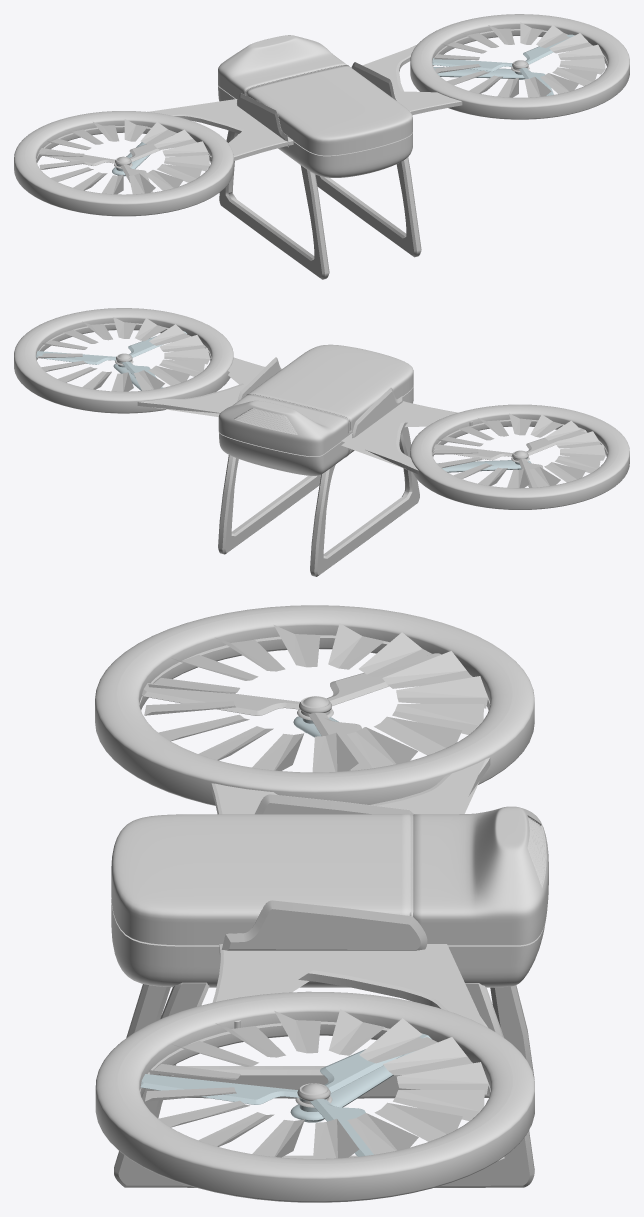
File: omfg1.obj
The picture shows the model from 3 angles, top to bottom: view 1: azimuth 30°, elevation 25°; view 2: azimuth 150°, elevation 25°; view 3: azimuth 270°, elevation 25°; orthographic projection. The views are drawn at different scales.
Visible parts, largest first — view 1: Corpo, Helice, Helice_4, Helice_Movie, Helice_Movie.1, Pe, Asa_Dir, Pe_1, Asa_esq, Pranchinha, Barço.1_1, Helice_2_1 (+2 smaller); view 2: Corpo, Helice, Helice_4, Helice_Movie, Helice_Movie.1, Pe, Asa_Dir, Pe_1, Asa_esq, Pranchinha, Barço.1, Pranchinha_1 (+2 smaller); view 3: Corpo, Helice_4, Helice, Helice_Movie.1, Helice_Movie, Asa_esq, Pranchinha_1, Pe, Pe_1, Asa_Dir, Helice_1, Helice_3_1 (+6 smaller).
Boxes of the visible parts, bbox=[...] form: Corpo: bbox=[218, 35, 412, 177]; Helice: bbox=[14, 111, 233, 216]; Helice_4: bbox=[410, 14, 629, 119]; Helice_Movie: bbox=[38, 119, 209, 194]; Helice_Movie.1: bbox=[434, 22, 605, 97]; Pe: bbox=[219, 130, 329, 279]; Asa_Dir: bbox=[147, 99, 294, 160]; Pe_1: bbox=[315, 157, 421, 257]; Asa_esq: bbox=[363, 45, 462, 115]; Pranchinha: bbox=[237, 93, 288, 147]; Barço.1_1: bbox=[433, 67, 530, 79]; Helice_2_1: bbox=[432, 58, 512, 71]; Corpo: bbox=[218, 344, 413, 475]; Helice: bbox=[410, 404, 629, 509]; Helice_4: bbox=[14, 308, 233, 413]; Helice_Movie: bbox=[432, 413, 605, 488]; Helice_Movie.1: bbox=[37, 317, 209, 391]; Pe: bbox=[310, 427, 419, 576]; Asa_Dir: bbox=[341, 401, 472, 474]; Pe_1: bbox=[218, 455, 320, 554]; Asa_esq: bbox=[137, 357, 264, 416]; Pranchinha: bbox=[352, 387, 402, 438]; Barço.1: bbox=[437, 458, 530, 472]; Pranchinha_1: bbox=[237, 357, 283, 401]; Corpo: bbox=[111, 806, 548, 987]; Helice_4: bbox=[95, 991, 534, 1202]; Helice: bbox=[95, 605, 534, 805]; Helice_Movie.1: bbox=[145, 1009, 488, 1158]; Helice_Movie: bbox=[144, 623, 487, 772]; Asa_esq: bbox=[212, 944, 487, 1028]; Pranchinha_1: bbox=[221, 900, 427, 950]; Pe: bbox=[126, 984, 534, 1098]; Pe_1: bbox=[114, 982, 534, 1187]; Asa_Dir: bbox=[211, 757, 490, 814]; Helice_1: bbox=[142, 683, 300, 715]; Helice_3_1: bbox=[140, 1074, 299, 1104].
Bounding box in the file's own units: 1111 × 283 × 372.
